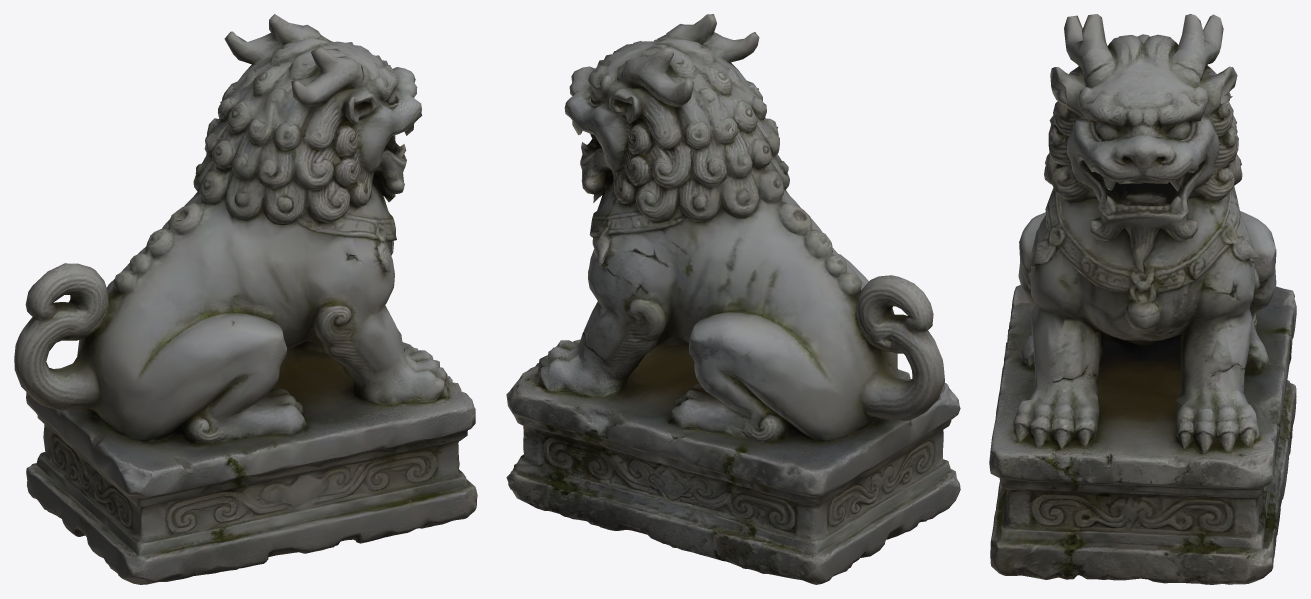
3 renders of one model, left to right at view 1: azimuth 30°, elevation 25°; view 2: azimuth 150°, elevation 25°; view 3: azimuth 270°, elevation 25°, orthographic. The views are drawn at different scales.
Visible parts, largest first — view 1: tripo_node_70a65380-ea79-440a-9063-443d7d845636; view 2: tripo_node_70a65380-ea79-440a-9063-443d7d845636; view 3: tripo_node_70a65380-ea79-440a-9063-443d7d845636.
Part boxes in pixels (<box>): tripo_node_70a65380-ea79-440a-9063-443d7d845636: <box>14,14,477,584</box>; tripo_node_70a65380-ea79-440a-9063-443d7d845636: <box>506,14,960,584</box>; tripo_node_70a65380-ea79-440a-9063-443d7d845636: <box>989,14,1296,584</box>.
Size of the model in its own units: 0.9003 by 1 by 0.5495.
Materials: 1 (1 with a texture image).
